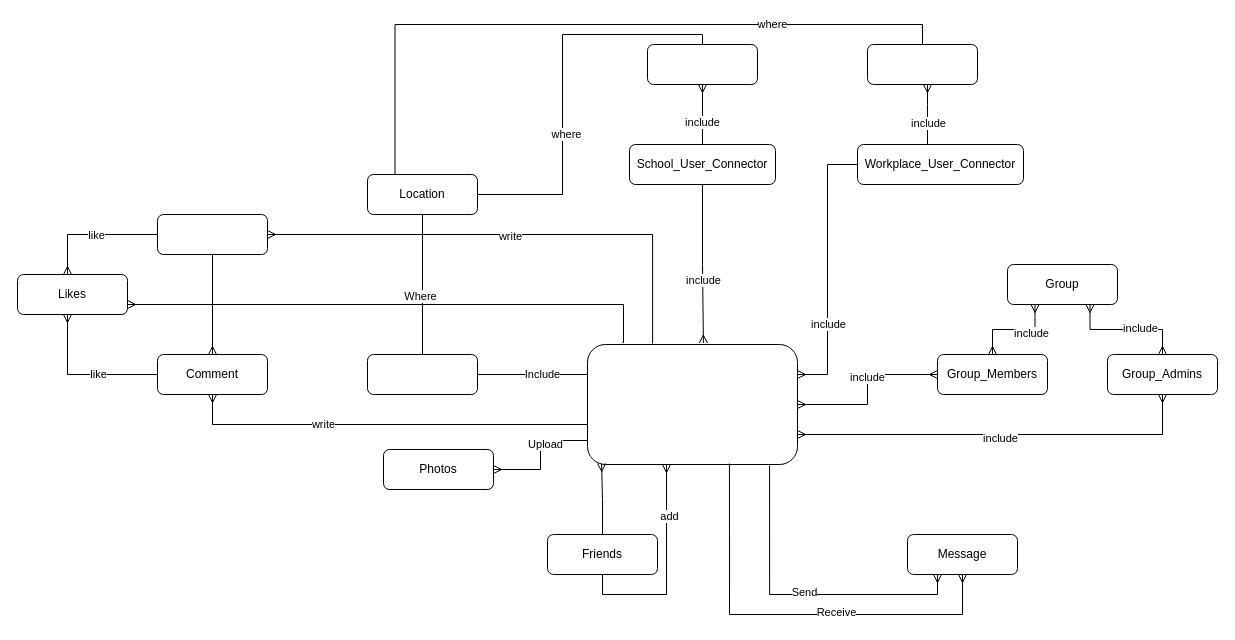
Some shapes in this 1235 by 640 pixel diagram are drawn without their labels. The shapes that lost their labels are listed below. From the top down, each one's centre as x and y in pixels, then its label:
(702,64): School
(922,64): Workplace
(212,234): Post
(422,374): User data
(692,404): User
